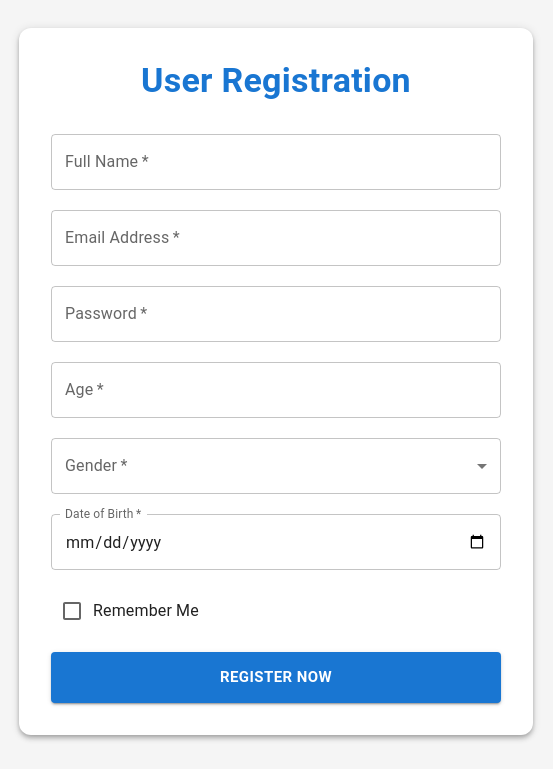
Test case: User Application Tests › Home Page - Registration Form › shows error message for invalid email
Type "invalidemail" into the field labelled "Email Address *".
click(276, 238); type("invalidemail")  # box [51, 210, 501, 266]
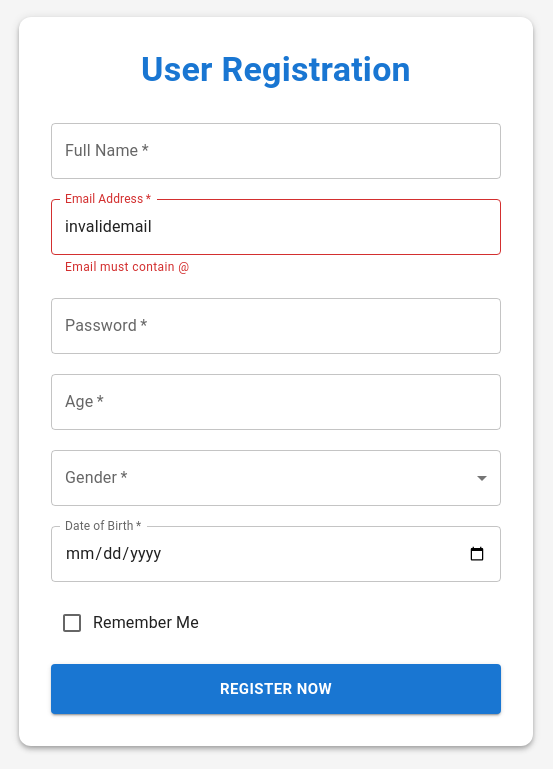
Expected: the text "Email must contain @" is shown, [65, 260, 189, 274]
